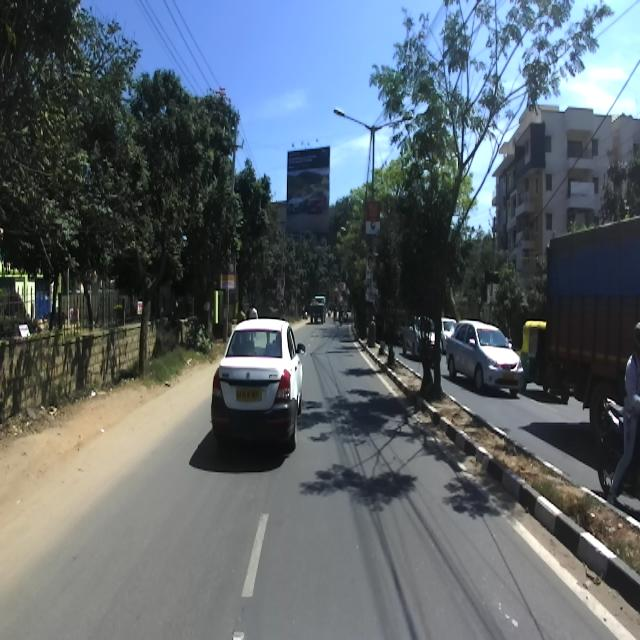car ahead at: (200, 317, 312, 472)
tree ahead at: (131, 72, 235, 352)
